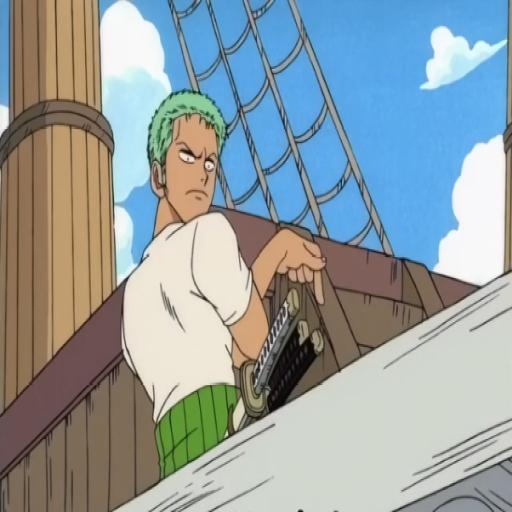Zoro: (94, 91, 289, 482)
